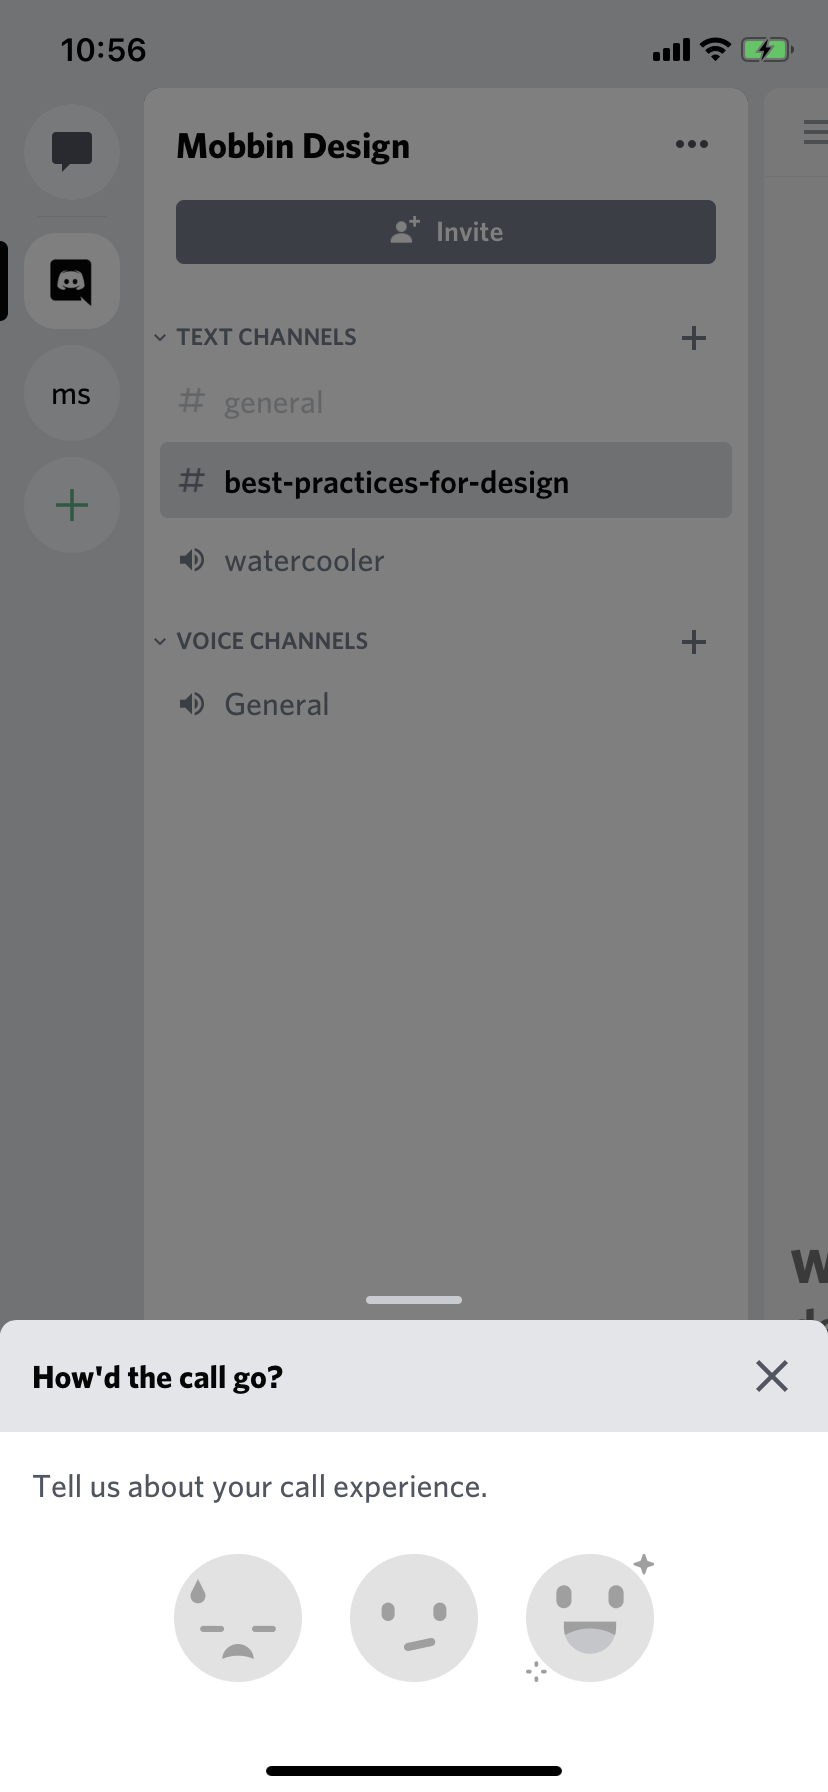Buttons: (168, 182, 725, 272), (21, 449, 128, 560), (662, 599, 724, 667), (740, 1335, 801, 1405), (664, 306, 726, 363), (661, 117, 720, 165)
